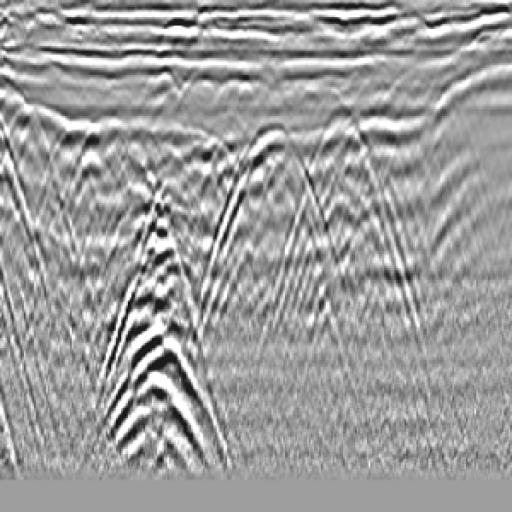metalic: (192, 92, 350, 322)
non-metallic: (72, 163, 239, 475), (278, 82, 426, 351)
